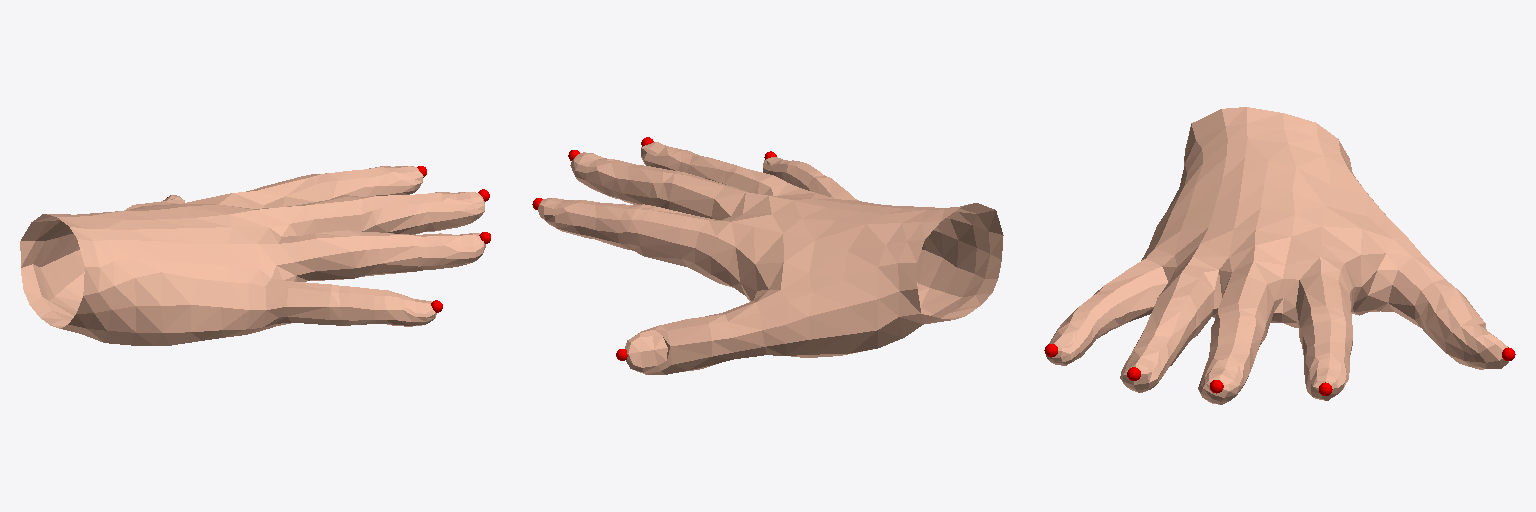
The robot description file, URDF, robot "mano_hand":
<?xml version='1.0' encoding='UTF-8'?>
<robot name="mano_hand">
  <material name="skin_color">
    <color rgba="0.95 0.75 0.65 1.0"/>
  </material>
  <material name="tip_marker_red">
    <color rgba="1.0 0.0 0.0 1.0"/>
  </material>
  <link name="base_link">
    <inertial>
      <origin xyz="0 0 0" rpy="0 0 0"/>
      <mass value="0.001"/>
      <inertia ixx="1e-6" ixy="0" ixz="0" iyy="1e-6" iyz="0" izz="1e-6"/>
    </inertial>
  </link>
  <joint name="ARTx" type="prismatic">
    <parent link="base_link"/>
    <child link="ARTx_link"/>
    <origin xyz="0 0 0" rpy="0 0 0"/>
    <axis xyz="1 0 0"/>
    <limit lower="-2.0" upper="2.0" effort="1000" velocity="100.0"/>
    <dynamics damping="1.0" friction="0.05"/>
  </joint>
  <link name="ARTx_link">
    <inertial>
      <origin xyz="0 0 0" rpy="0 0 0"/>
      <mass value="0.001"/>
      <inertia ixx="1e-6" ixy="0" ixz="0" iyy="1e-6" iyz="0" izz="1e-6"/>
    </inertial>
  </link>
  <joint name="ARTy" type="prismatic">
    <parent link="ARTx_link"/>
    <child link="ARTy_link"/>
    <origin xyz="0 0 0" rpy="0 0 0"/>
    <axis xyz="0 1 0"/>
    <limit lower="-2.0" upper="2.0" effort="1000" velocity="100.0"/>
    <dynamics damping="1.0" friction="0.05"/>
  </joint>
  <link name="ARTy_link">
    <inertial>
      <origin xyz="0 0 0" rpy="0 0 0"/>
      <mass value="0.001"/>
      <inertia ixx="1e-6" ixy="0" ixz="0" iyy="1e-6" iyz="0" izz="1e-6"/>
    </inertial>
  </link>
  <joint name="ARTz" type="prismatic">
    <parent link="ARTy_link"/>
    <child link="ARTz_link"/>
    <origin xyz="0 0 0" rpy="0 0 0"/>
    <axis xyz="0 0 1"/>
    <limit lower="-2.0" upper="2.0" effort="1000" velocity="100.0"/>
    <dynamics damping="1.0" friction="0.05"/>
  </joint>
  <link name="ARTz_link">
    <inertial>
      <origin xyz="0 0 0" rpy="0 0 0"/>
      <mass value="0.001"/>
      <inertia ixx="1e-6" ixy="0" ixz="0" iyy="1e-6" iyz="0" izz="1e-6"/>
    </inertial>
  </link>
  <joint name="ARRx" type="revolute">
    <parent link="ARTz_link"/>
    <child link="ARRx_link"/>
    <origin xyz="0 0 0" rpy="0 0 0"/>
    <axis xyz="1 0 0"/>
    <limit lower="-9.42478" upper="9.42478" effort="1000" velocity="100.0"/>
    <dynamics damping="1.0" friction="0.05"/>
  </joint>
  <link name="ARRx_link">
    <inertial>
      <origin xyz="0 0 0" rpy="0 0 0"/>
      <mass value="0.001"/>
      <inertia ixx="1e-6" ixy="0" ixz="0" iyy="1e-6" iyz="0" izz="1e-6"/>
    </inertial>
  </link>
  <joint name="ARRy" type="revolute">
    <parent link="ARRx_link"/>
    <child link="ARRy_link"/>
    <origin xyz="0 0 0" rpy="0 0 0"/>
    <axis xyz="0 1 0"/>
    <limit lower="-9.42478" upper="9.42478" effort="1000" velocity="100.0"/>
    <dynamics damping="1.0" friction="0.05"/>
  </joint>
  <link name="ARRy_link">
    <inertial>
      <origin xyz="0 0 0" rpy="0 0 0"/>
      <mass value="0.001"/>
      <inertia ixx="1e-6" ixy="0" ixz="0" iyy="1e-6" iyz="0" izz="1e-6"/>
    </inertial>
  </link>
  <joint name="ARRz" type="revolute">
    <parent link="ARRy_link"/>
    <child link="ARRz_link"/>
    <origin xyz="0 0 0" rpy="0 0 0"/>
    <axis xyz="0 0 1"/>
    <limit lower="-9.42478" upper="9.42478" effort="1000" velocity="100.0"/>
    <dynamics damping="1.0" friction="0.05"/>
  </joint>
  <link name="ARRz_link">
    <inertial>
      <origin xyz="0 0 0" rpy="0 0 0"/>
      <mass value="0.001"/>
      <inertia ixx="1e-6" ixy="0" ixz="0" iyy="1e-6" iyz="0" izz="1e-6"/>
    </inertial>
  </link>
  <joint name="palm_joint" type="fixed">
    <parent link="ARRz_link"/>
    <child link="palm"/>
    <origin xyz="0 0 0" rpy="1.5708 0 3.1416"/>
  </joint>
  <link name="palm">
    <inertial>
      <origin xyz="0 0 0" rpy="0 0 0"/>
      <mass value="0.02"/>
      <inertia ixx="1e-4" ixy="0" ixz="0" iyy="1e-4" iyz="0" izz="1e-4"/>
    </inertial>
    <visual>
      <geometry>
        <mesh filename="meshes/visual_palm.stl"/>
      </geometry>
      <material name="skin_color"/>
    </visual>
    <collision>
      <geometry>
        <mesh filename="meshes/palm.stl" scale="0.7 0.7 0.7"/>
      </geometry>
    </collision>
  </link>
  <joint name="j1_thumb_cmc_abd" type="revolute">
    <parent link="palm"/>
    <child link="thumb_cmc_abd"/>
    <origin xyz="-0.02389469 -0.015313907 0.025387153" rpy="0 0 0"/>
    <axis xyz="0.13185614 0.9560337 0.26194167"/>
    <limit lower="-1.175" upper="2.621" effort="100.0" velocity="100.0"/>
  </joint>
  <link name="thumb_cmc_abd">
    <inertial>
      <origin xyz="0 0 0" rpy="0 0 0"/>
      <mass value="0.001"/>
      <inertia ixx="1e-6" ixy="0" ixz="0" iyy="1e-6" iyz="0" izz="1e-6"/>
    </inertial>
  </link>
  <joint name="j1_thumb_cmc_flex" type="revolute">
    <parent link="thumb_cmc_abd"/>
    <child link="thumb_cmc"/>
    <origin xyz="0 0 0" rpy="0 0 0"/>
    <axis xyz="0.9842654 -0.15762684 0.07984652"/>
    <limit lower="-2.0" upper="1.97" effort="100.0" velocity="100.0"/>
  </joint>
  <link name="thumb_cmc">
    <inertial>
      <origin xyz="0 0 0" rpy="0 0 0"/>
      <mass value="0.01"/>
      <inertia ixx="1e-5" ixy="0" ixz="0" iyy="1e-5" iyz="0" izz="1e-5"/>
    </inertial>
    <visual>
      <geometry>
        <mesh filename="meshes/visual_thumb1.stl"/>
      </geometry>
      <material name="skin_color"/>
    </visual>
    <collision>
      <geometry>
        <mesh filename="meshes/thumb1.stl"/>
      </geometry>
    </collision>
  </link>
  <joint name="j1_thumb_mcp" type="revolute">
    <parent link="thumb_cmc"/>
    <child link="thumb_mcp"/>
    <origin xyz="-0.01962196 0.00071367156 0.023452502" rpy="0 0 0"/>
    <axis xyz="0.37361311427827665 -0.8767836182446197 0.30276018169032803"/>
    <limit lower="0.0" upper="1.745" effort="100.0" velocity="100.0"/>
  </joint>
  <link name="thumb_mcp">
    <inertial>
      <origin xyz="0 0 0" rpy="0 0 0"/>
      <mass value="0.01"/>
      <inertia ixx="1e-5" ixy="0" ixz="0" iyy="1e-5" iyz="0" izz="1e-5"/>
    </inertial>
    <visual>
      <geometry>
        <mesh filename="meshes/visual_thumb2.stl"/>
      </geometry>
      <material name="skin_color"/>
    </visual>
    <collision>
      <geometry>
        <mesh filename="meshes/thumb2.stl"/>
      </geometry>
    </collision>
  </link>
  <joint name="j1_thumb_ip" type="revolute">
    <parent link="thumb_mcp"/>
    <child link="thumb_ip"/>
    <origin xyz="-0.022093967 -0.0053700376 0.014541239" rpy="0 0 0"/>
    <axis xyz="0.37361311427827665 -0.8767836182446197 0.30276018169032803"/>
    <limit lower="0.0" upper="1.745" effort="100.0" velocity="100.0"/>
  </joint>
  <link name="thumb_ip">
    <inertial>
      <origin xyz="0 0 0" rpy="0 0 0"/>
      <mass value="0.01"/>
      <inertia ixx="1e-5" ixy="0" ixz="0" iyy="1e-5" iyz="0" izz="1e-5"/>
    </inertial>
    <visual>
      <geometry>
        <mesh filename="meshes/visual_thumb3.stl"/>
      </geometry>
      <material name="skin_color"/>
    </visual>
    <visual>
      <origin xyz="-0.0259854905 -0.00266625453 0.0238159671" rpy="0 0 0"/>
      <geometry>
        <sphere radius="0.0025"/>
      </geometry>
      <material name="tip_marker_red"/>
    </visual>
    <collision>
      <geometry>
        <mesh filename="meshes/thumb3.stl"/>
      </geometry>
    </collision>
  </link>
  <joint name="j2_index_mcp_abd" type="revolute">
    <parent link="palm"/>
    <child link="index_mcp_abd"/>
    <origin xyz="-0.08733771 -0.005153717 0.020240467" rpy="0 0 0"/>
    <axis xyz="0.05673497916997567 -0.9983892738499259 0.0"/>
    <limit lower="-0.349" upper="0.349" effort="100.0" velocity="100.0"/>
  </joint>
  <link name="index_mcp_abd">
    <inertial>
      <origin xyz="0 0 0" rpy="0 0 0"/>
      <mass value="0.001"/>
      <inertia ixx="1e-6" ixy="0" ixz="0" iyy="1e-6" iyz="0" izz="1e-6"/>
    </inertial>
  </link>
  <joint name="j2_index_mcp_flex" type="revolute">
    <parent link="index_mcp_abd"/>
    <child link="index_mcp"/>
    <origin xyz="0 0 0" rpy="0 0 0"/>
    <axis xyz="-0.0021424048722379877 -0.0001217453942903111 0.9999976976370608"/>
    <limit lower="-0.175" upper="1.571" effort="100.0" velocity="100.0"/>
  </joint>
  <link name="index_mcp">
    <inertial>
      <origin xyz="0 0 0" rpy="0 0 0"/>
      <mass value="0.01"/>
      <inertia ixx="1e-5" ixy="0" ixz="0" iyy="1e-5" iyz="0" izz="1e-5"/>
    </inertial>
    <visual>
      <geometry>
        <mesh filename="meshes/visual_index1.stl"/>
      </geometry>
      <material name="skin_color"/>
    </visual>
    <collision>
      <geometry>
        <mesh filename="meshes/index1.stl"/>
      </geometry>
    </collision>
  </link>
  <joint name="j2_index_pip" type="revolute">
    <parent link="index_mcp"/>
    <child link="index_pip"/>
    <origin xyz="-0.03255614 0.004091108 0.0022288635" rpy="0 0 0"/>
    <axis xyz="-0.0021424048722379877 -0.0001217453942903111 0.9999976976370608"/>
    <limit lower="0.0" upper="1.745" effort="100.0" velocity="100.0"/>
  </joint>
  <link name="index_pip">
    <inertial>
      <origin xyz="0 0 0" rpy="0 0 0"/>
      <mass value="0.01"/>
      <inertia ixx="1e-5" ixy="0" ixz="0" iyy="1e-5" iyz="0" izz="1e-5"/>
    </inertial>
    <visual>
      <geometry>
        <mesh filename="meshes/visual_index2.stl"/>
      </geometry>
      <material name="skin_color"/>
    </visual>
    <collision>
      <geometry>
        <mesh filename="meshes/index2.stl"/>
      </geometry>
    </collision>
  </link>
  <joint name="j2_index_dip" type="revolute">
    <parent link="index_pip"/>
    <child link="index_dip"/>
    <origin xyz="-0.022112608 -0.0012565823 -4.7527254e-05" rpy="0 0 0"/>
    <axis xyz="-0.0021424048722379877 -0.0001217453942903111 0.9999976976370608"/>
    <limit lower="0.0" upper="1.745" effort="100.0" velocity="100.0"/>
  </joint>
  <link name="index_dip">
    <inertial>
      <origin xyz="0 0 0" rpy="0 0 0"/>
      <mass value="0.01"/>
      <inertia ixx="1e-5" ixy="0" ixz="0" iyy="1e-5" iyz="0" izz="1e-5"/>
    </inertial>
    <visual>
      <geometry>
        <mesh filename="meshes/visual_index3.stl"/>
      </geometry>
      <material name="skin_color"/>
    </visual>
    <visual>
      <origin xyz="-0.0254623368 0.00131389685 -0.000487342477" rpy="0 0 0"/>
      <geometry>
        <sphere radius="0.0025"/>
      </geometry>
      <material name="tip_marker_red"/>
    </visual>
    <collision>
      <geometry>
        <mesh filename="meshes/index3.stl"/>
      </geometry>
    </collision>
  </link>
  <joint name="j3_middle_mcp_abd" type="revolute">
    <parent link="palm"/>
    <child link="middle_mcp_abd"/>
    <origin xyz="-0.09388967 -0.0015673782 -0.0034452414" rpy="0 0 0"/>
    <axis xyz="0.056011982 -0.9982925 -0.01657759"/>
    <limit lower="-0.524" upper="0.349" effort="100.0" velocity="100.0"/>
  </joint>
  <link name="middle_mcp_abd">
    <inertial>
      <origin xyz="0 0 0" rpy="0 0 0"/>
      <mass value="0.001"/>
      <inertia ixx="1e-6" ixy="0" ixz="0" iyy="1e-6" iyz="0" izz="1e-6"/>
    </inertial>
  </link>
  <joint name="j3_middle_mcp_flex" type="revolute">
    <parent link="middle_mcp_abd"/>
    <child link="middle_mcp"/>
    <origin xyz="0 0 0" rpy="0 0 0"/>
    <axis xyz="-0.16507076 -0.02563436 0.9859485"/>
    <limit lower="-0.175" upper="1.571" effort="100.0" velocity="100.0"/>
  </joint>
  <link name="middle_mcp">
    <inertial>
      <origin xyz="0 0 0" rpy="0 0 0"/>
      <mass value="0.01"/>
      <inertia ixx="1e-5" ixy="0" ixz="0" iyy="1e-5" iyz="0" izz="1e-5"/>
    </inertial>
    <visual>
      <geometry>
        <mesh filename="meshes/visual_middle1.stl"/>
      </geometry>
      <material name="skin_color"/>
    </visual>
    <collision>
      <geometry>
        <mesh filename="meshes/middle1.stl"/>
      </geometry>
    </collision>
  </link>
  <joint name="j3_middle_pip" type="revolute">
    <parent link="middle_mcp"/>
    <child link="middle_pip"/>
    <origin xyz="-0.031086603 0.0018698378 -0.0054871673" rpy="0 0 0"/>
    <axis xyz="-0.16507076 -0.02563436 0.9859485"/>
    <limit lower="0.0" upper="1.745" effort="100.0" velocity="100.0"/>
  </joint>
  <link name="middle_pip">
    <inertial>
      <origin xyz="0 0 0" rpy="0 0 0"/>
      <mass value="0.01"/>
      <inertia ixx="1e-5" ixy="0" ixz="0" iyy="1e-5" iyz="0" izz="1e-5"/>
    </inertial>
    <visual>
      <geometry>
        <mesh filename="meshes/visual_middle2.stl"/>
      </geometry>
      <material name="skin_color"/>
    </visual>
    <collision>
      <geometry>
        <mesh filename="meshes/middle2.stl"/>
      </geometry>
    </collision>
  </link>
  <joint name="j3_middle_dip" type="revolute">
    <parent link="middle_pip"/>
    <child link="middle_dip"/>
    <origin xyz="-0.022871258 -0.0012191422 -0.003860879" rpy="0 0 0"/>
    <axis xyz="-0.16507076 -0.02563436 0.9859485"/>
    <limit lower="0.0" upper="1.745" effort="100.0" velocity="100.0"/>
  </joint>
  <link name="middle_dip">
    <inertial>
      <origin xyz="0 0 0" rpy="0 0 0"/>
      <mass value="0.01"/>
      <inertia ixx="1e-5" ixy="0" ixz="0" iyy="1e-5" iyz="0" izz="1e-5"/>
    </inertial>
    <visual>
      <geometry>
        <mesh filename="meshes/visual_middle3.stl"/>
      </geometry>
      <material name="skin_color"/>
    </visual>
    <visual>
      <origin xyz="-0.0256711803 0.00385319255 -0.00410224963" rpy="0 0 0"/>
      <geometry>
        <sphere radius="0.0025"/>
      </geometry>
      <material name="tip_marker_red"/>
    </visual>
    <collision>
      <geometry>
        <mesh filename="meshes/middle3.stl"/>
      </geometry>
    </collision>
  </link>
  <joint name="j4_ring_mcp_abd" type="revolute">
    <parent link="palm"/>
    <child link="ring_mcp_abd"/>
    <origin xyz="-0.08111373 -0.004029979 -0.026400931" rpy="0 0 0"/>
    <axis xyz="0.030293364 -0.9919109 0.12326819"/>
    <limit lower="-0.524" upper="0.349" effort="100.0" velocity="100.0"/>
  </joint>
  <link name="ring_mcp_abd">
    <inertial>
      <origin xyz="0 0 0" rpy="0 0 0"/>
      <mass value="0.001"/>
      <inertia ixx="1e-6" ixy="0" ixz="0" iyy="1e-6" iyz="0" izz="1e-6"/>
    </inertial>
  </link>
  <joint name="j4_ring_mcp_flex" type="revolute">
    <parent link="ring_mcp_abd"/>
    <child link="ring_mcp"/>
    <origin xyz="0 0 0" rpy="0 0 0"/>
    <axis xyz="-0.31106862 0.10784489 0.9442488"/>
    <limit lower="-0.175" upper="1.571" effort="100.0" velocity="100.0"/>
  </joint>
  <link name="ring_mcp">
    <inertial>
      <origin xyz="0 0 0" rpy="0 0 0"/>
      <mass value="0.01"/>
      <inertia ixx="1e-5" ixy="0" ixz="0" iyy="1e-5" iyz="0" izz="1e-5"/>
    </inertial>
    <visual>
      <geometry>
        <mesh filename="meshes/visual_ring1.stl"/>
      </geometry>
      <material name="skin_color"/>
    </visual>
    <collision>
      <geometry>
        <mesh filename="meshes/ring1.stl"/>
      </geometry>
    </collision>
  </link>
  <joint name="j4_ring_pip" type="revolute">
    <parent link="ring_mcp"/>
    <child link="ring_pip"/>
    <origin xyz="-0.028227612 0.0020523458 -0.0050604977" rpy="0 0 0"/>
    <axis xyz="-0.31106862 0.10784489 0.9442488"/>
    <limit lower="0.0" upper="1.745" effort="100.0" velocity="100.0"/>
  </joint>
  <link name="ring_pip">
    <inertial>
      <origin xyz="0 0 0" rpy="0 0 0"/>
      <mass value="0.01"/>
      <inertia ixx="1e-5" ixy="0" ixz="0" iyy="1e-5" iyz="0" izz="1e-5"/>
    </inertial>
    <visual>
      <geometry>
        <mesh filename="meshes/visual_ring2.stl"/>
      </geometry>
      <material name="skin_color"/>
    </visual>
    <collision>
      <geometry>
        <mesh filename="meshes/ring2.stl"/>
      </geometry>
    </collision>
  </link>
  <joint name="j4_ring_dip" type="revolute">
    <parent link="ring_pip"/>
    <child link="ring_dip"/>
    <origin xyz="-0.023506217 -0.00165672 -0.0075545534" rpy="0 0 0"/>
    <axis xyz="-0.31106862 0.10784489 0.9442488"/>
    <limit lower="0.0" upper="1.745" effort="100.0" velocity="100.0"/>
  </joint>
  <link name="ring_dip">
    <inertial>
      <origin xyz="0 0 0" rpy="0 0 0"/>
      <mass value="0.01"/>
      <inertia ixx="1e-5" ixy="0" ixz="0" iyy="1e-5" iyz="0" izz="1e-5"/>
    </inertial>
    <visual>
      <geometry>
        <mesh filename="meshes/visual_ring3.stl"/>
      </geometry>
      <material name="skin_color"/>
    </visual>
    <visual>
      <origin xyz="-0.0244163238 0.00385778723 -0.00733599067" rpy="0 0 0"/>
      <geometry>
        <sphere radius="0.0025"/>
      </geometry>
      <material name="tip_marker_red"/>
    </visual>
    <collision>
      <geometry>
        <mesh filename="meshes/ring3.stl"/>
      </geometry>
    </collision>
  </link>
  <joint name="j5_pinky_mcp_abd" type="revolute">
    <parent link="palm"/>
    <child link="pinky_mcp_abd"/>
    <origin xyz="-0.06832105 -0.009809293 -0.04272004" rpy="0 0 0"/>
    <axis xyz="-0.11992 -0.96167785 0.24656615"/>
    <limit lower="-0.698" upper="0.349" effort="100.0" velocity="100.0"/>
  </joint>
  <link name="pinky_mcp_abd">
    <inertial>
      <origin xyz="0 0 0" rpy="0 0 0"/>
      <mass value="0.001"/>
      <inertia ixx="1e-6" ixy="0" ixz="0" iyy="1e-6" iyz="0" izz="1e-6"/>
    </inertial>
  </link>
  <joint name="j5_pinky_mcp_flex" type="revolute">
    <parent link="pinky_mcp_abd"/>
    <child link="pinky_mcp"/>
    <origin xyz="0 0 0" rpy="0 0 0"/>
    <axis xyz="-0.5339428 0.27185544 0.8006246"/>
    <limit lower="-0.175" upper="1.571" effort="100.0" velocity="100.0"/>
  </joint>
  <link name="pinky_mcp">
    <inertial>
      <origin xyz="0 0 0" rpy="0 0 0"/>
      <mass value="0.01"/>
      <inertia ixx="1e-5" ixy="0" ixz="0" iyy="1e-5" iyz="0" izz="1e-5"/>
    </inertial>
    <visual>
      <geometry>
        <mesh filename="meshes/visual_pinky1.stl"/>
      </geometry>
      <material name="skin_color"/>
    </visual>
    <collision>
      <geometry>
        <mesh filename="meshes/pinky1.stl"/>
      </geometry>
    </collision>
  </link>
  <joint name="j5_pinky_pip" type="revolute">
    <parent link="pinky_mcp"/>
    <child link="pinky_pip"/>
    <origin xyz="-0.016918903 0.0001977922 -0.012446184" rpy="0 0 0"/>
    <axis xyz="-0.5339428 0.27185544 0.8006246"/>
    <limit lower="0.0" upper="1.745" effort="100.0" velocity="100.0"/>
  </joint>
  <link name="pinky_pip">
    <inertial>
      <origin xyz="0 0 0" rpy="0 0 0"/>
      <mass value="0.01"/>
      <inertia ixx="1e-5" ixy="0" ixz="0" iyy="1e-5" iyz="0" izz="1e-5"/>
    </inertial>
    <visual>
      <geometry>
        <mesh filename="meshes/visual_pinky2.stl"/>
      </geometry>
      <material name="skin_color"/>
    </visual>
    <collision>
      <geometry>
        <mesh filename="meshes/pinky2.stl"/>
      </geometry>
    </collision>
  </link>
  <joint name="j5_pinky_dip" type="revolute">
    <parent link="pinky_pip"/>
    <child link="pinky_dip"/>
    <origin xyz="-0.0157982 -0.0006727434 -0.010307509" rpy="0 0 0"/>
    <axis xyz="-0.5339428 0.27185544 0.8006246"/>
    <limit lower="0.0" upper="1.745" effort="100.0" velocity="100.0"/>
  </joint>
  <link name="pinky_dip">
    <inertial>
      <origin xyz="0 0 0" rpy="0 0 0"/>
      <mass value="0.01"/>
      <inertia ixx="1e-5" ixy="0" ixz="0" iyy="1e-5" iyz="0" izz="1e-5"/>
    </inertial>
    <visual>
      <geometry>
        <mesh filename="meshes/visual_pinky3.stl"/>
      </geometry>
      <material name="skin_color"/>
    </visual>
    <visual>
      <origin xyz="-0.0170771573 0.00156505825 -0.010318011" rpy="0 0 0"/>
      <geometry>
        <sphere radius="0.0025"/>
      </geometry>
      <material name="tip_marker_red"/>
    </visual>
    <collision>
      <geometry>
        <mesh filename="meshes/pinky3.stl"/>
      </geometry>
    </collision>
  </link>
</robot>

--- Facts derived from the render (not from the file) ---
Views: 3 orthographic renders of the robot side by side, from view 1: azimuth 30°, elevation 25°; view 2: azimuth 150°, elevation 25°; view 3: azimuth 270°, elevation 25°.
Robot: mano_hand — 28 links, 27 joints (23 revolute, 3 prismatic, 1 fixed); root link base_link; default pose: all joints at 0.
Visible links, largest first — view 1: palm, ring_mcp, pinky_mcp, middle_mcp, ring_pip, thumb_cmc, middle_dip, middle_pip, ring_dip, index_mcp, pinky_pip, index_dip (+2 smaller); view 2: palm, thumb_cmc, thumb_mcp, thumb_ip, index_mcp, middle_mcp, index_pip, middle_dip, index_dip, middle_pip, ring_mcp, ring_dip (+3 smaller); view 3: palm, thumb_ip, thumb_mcp, middle_mcp, ring_mcp, index_mcp, middle_dip, index_dip, pinky_mcp, ring_pip, ring_dip, pinky_dip (+3 smaller).
Boxes of the visible links, x1,y1,x2,y2 form: palm: [20, 191, 296, 345]; ring_mcp: [277, 230, 365, 281]; pinky_mcp: [265, 279, 343, 326]; middle_mcp: [279, 196, 381, 235]; ring_pip: [356, 231, 431, 277]; thumb_cmc: [40, 228, 84, 310]; middle_dip: [415, 189, 489, 231]; middle_pip: [373, 195, 430, 234]; ring_dip: [422, 232, 490, 269]; index_mcp: [246, 174, 331, 207]; pinky_pip: [333, 285, 397, 325]; index_dip: [362, 166, 426, 195]; palm: [695, 188, 1003, 347]; thumb_cmc: [781, 274, 877, 357]; thumb_mcp: [708, 290, 787, 364]; thumb_ip: [616, 316, 714, 374]; index_mcp: [628, 204, 715, 274]; middle_mcp: [650, 172, 748, 219]; index_pip: [581, 203, 643, 250]; middle_dip: [568, 150, 633, 198]; index_dip: [532, 198, 599, 237]; middle_pip: [608, 164, 679, 206]; ring_mcp: [724, 166, 799, 195]; ring_dip: [641, 137, 699, 170]; palm: [1131, 107, 1392, 326]; thumb_ip: [1420, 288, 1515, 369]; thumb_mcp: [1368, 236, 1455, 333]; middle_mcp: [1212, 261, 1294, 344]; ring_mcp: [1155, 257, 1223, 338]; index_mcp: [1283, 271, 1352, 341]; middle_dip: [1198, 343, 1251, 404]; index_dip: [1304, 342, 1349, 400]; pinky_mcp: [1094, 266, 1167, 329]; ring_pip: [1134, 299, 1196, 365]; ring_dip: [1120, 336, 1172, 392]; pinky_dip: [1044, 313, 1095, 365].
Size in the robot's own frame: 0.1943 by 0.168 by 0.0606 metres.
16 mesh visuals loaded from 16 distinct referenced files (16 binary STL).
